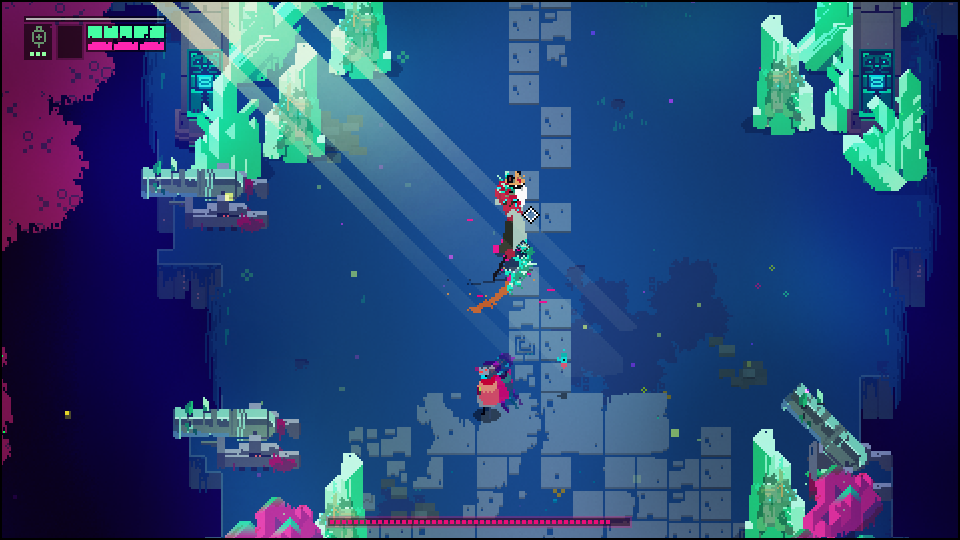hanged_man: (478, 170, 539, 311)
player: (473, 362, 511, 414)
